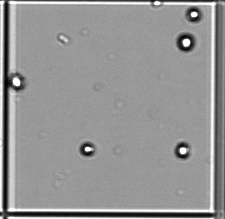Living Cell: (177, 33, 194, 51), (174, 141, 190, 159), (9, 74, 24, 90), (186, 7, 200, 23), (81, 143, 96, 156)
